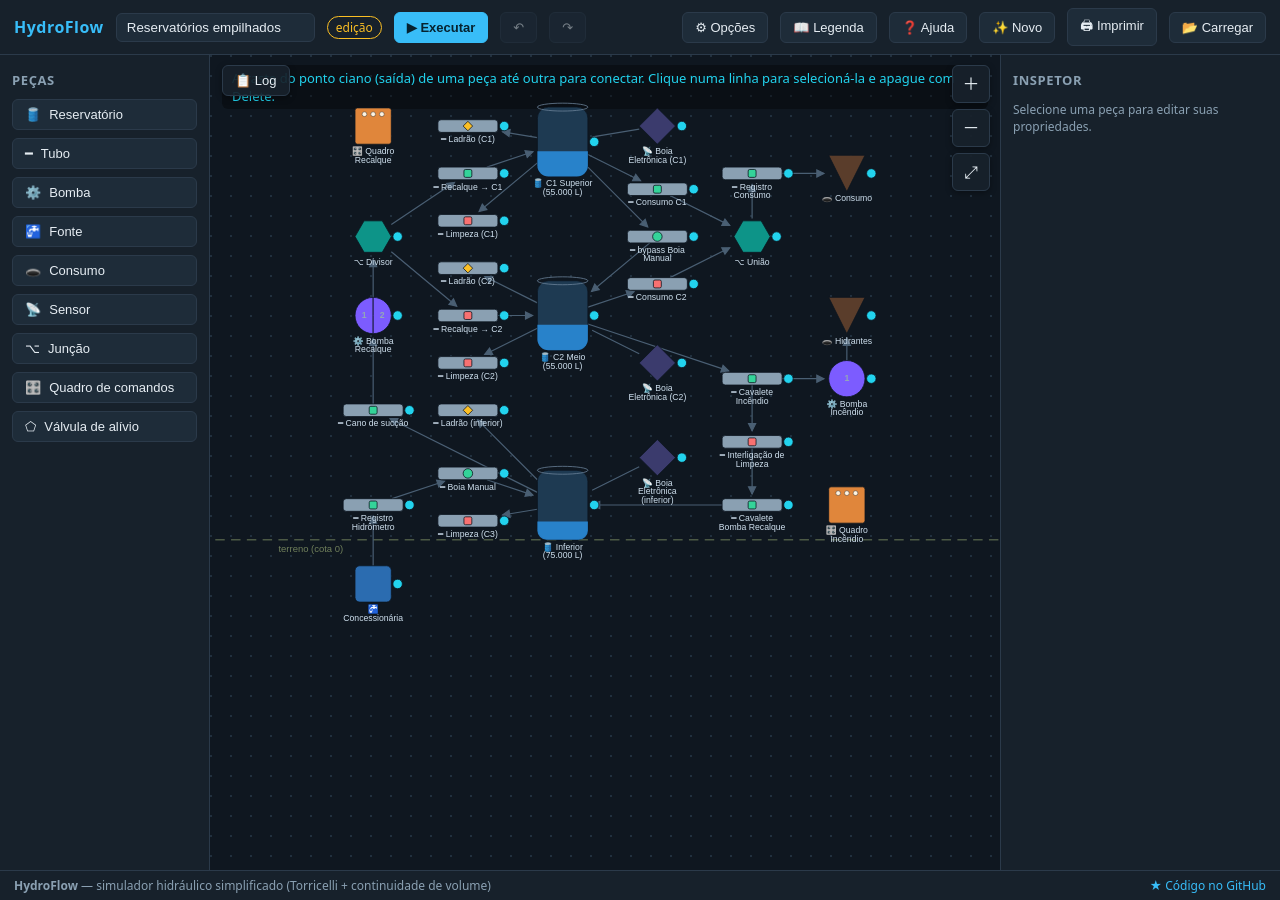
it: novos recursos de UI › abre a legenda com formas e cores
Click the button "📖 Legenda": (829, 27) top-left (780, 12), bottom-right (877, 42)
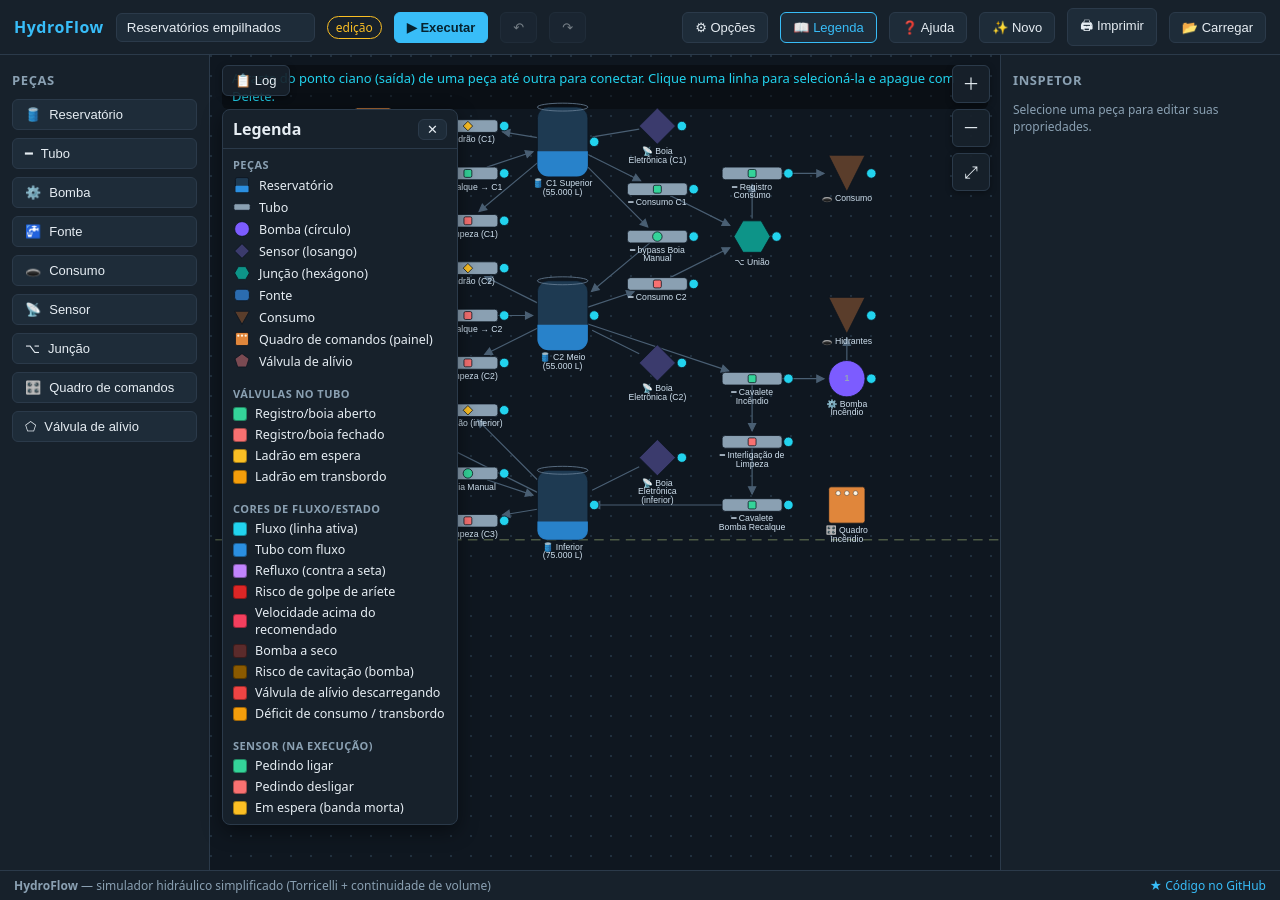
Check: the text "Bomba (círculo)" is shown, box top-left (259, 220), bottom-right (350, 238)
Check: the text "Junção (hexágono)" is shown, box top-left (259, 264), bottom-right (368, 282)
Check: the text "Refluxo (contra a seta)" is shown, box top-left (255, 562), bottom-right (386, 579)
